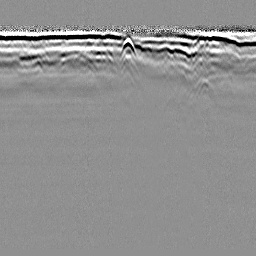cavity: (119, 34, 136, 57)
